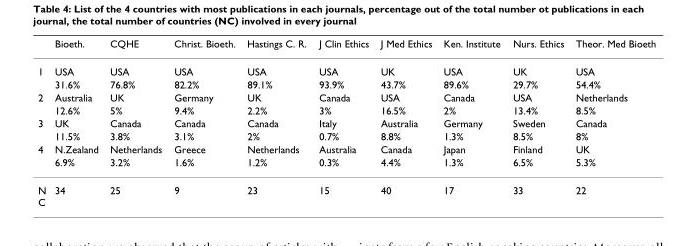table: (37, 37, 655, 207)
table column: (569, 37, 655, 207), (167, 37, 240, 207), (240, 37, 311, 207), (437, 37, 505, 207), (103, 37, 167, 207), (505, 37, 569, 207), (311, 37, 374, 207), (374, 37, 437, 207), (49, 37, 103, 207), (37, 37, 49, 207)
table column header: (37, 37, 655, 57)
table row: (37, 175, 655, 207), (37, 37, 655, 57), (37, 57, 655, 77), (37, 155, 655, 175), (37, 77, 655, 90), (37, 90, 655, 103), (37, 103, 655, 116), (37, 116, 655, 129), (37, 129, 655, 142), (37, 142, 655, 155)
table spanning cell: (37, 57, 49, 90), (37, 142, 49, 175), (37, 90, 49, 116), (37, 116, 49, 142)
